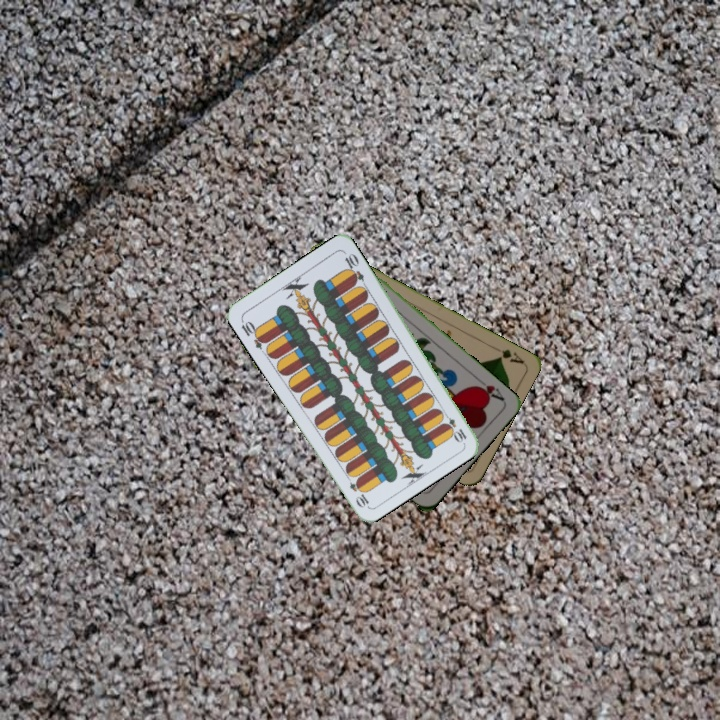E10: (237, 315, 269, 352), (438, 408, 469, 445)
GA: (489, 342, 527, 367)
HA: (471, 373, 507, 404)
